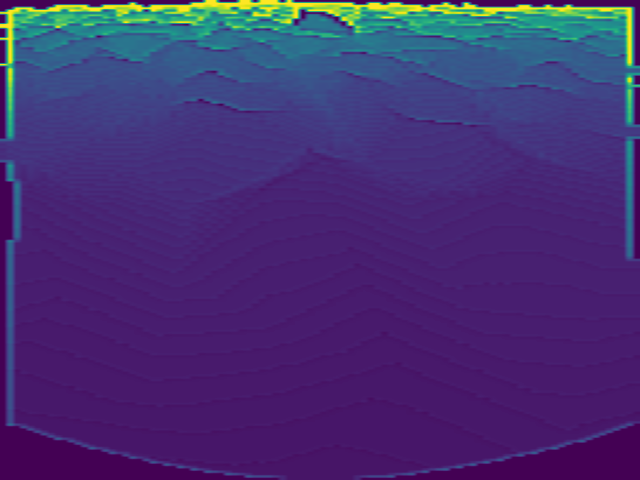car_0198: (294, 7, 357, 38)
